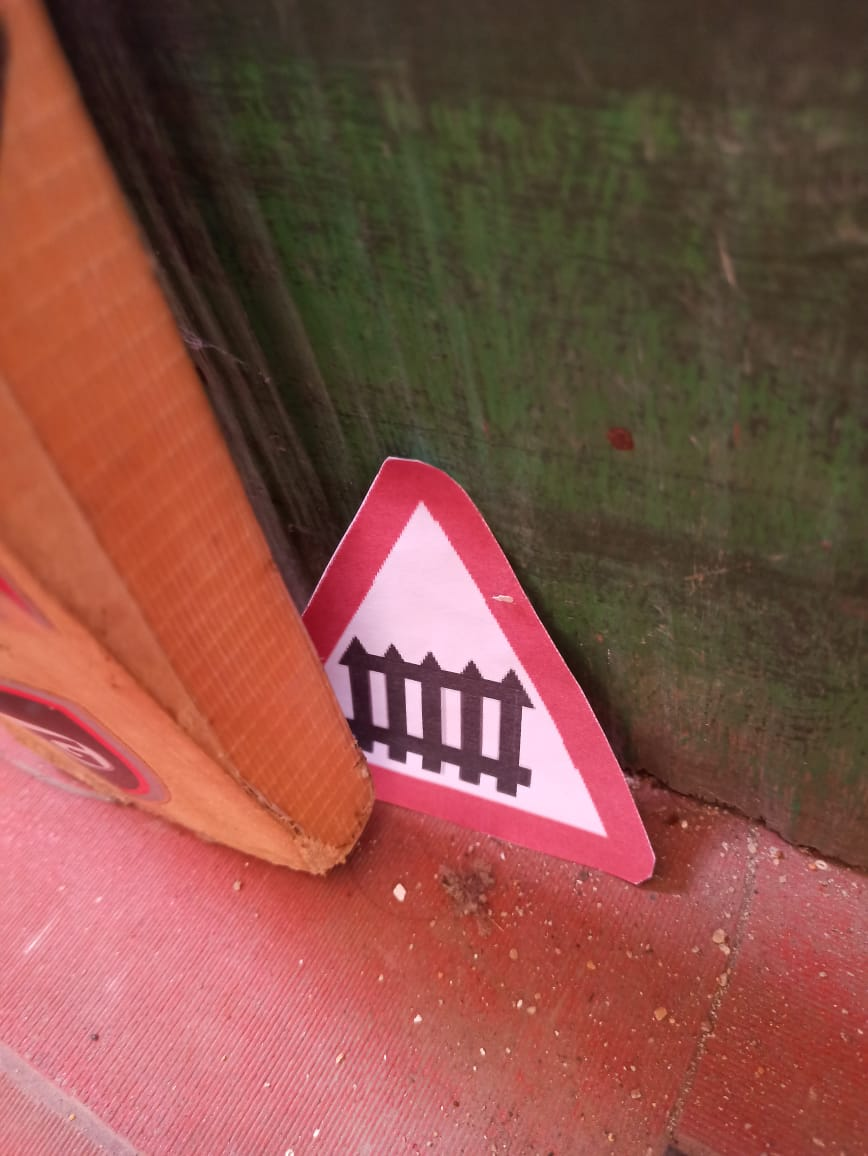GUARDED LEVEL CROSSING: (272, 403, 665, 905)
